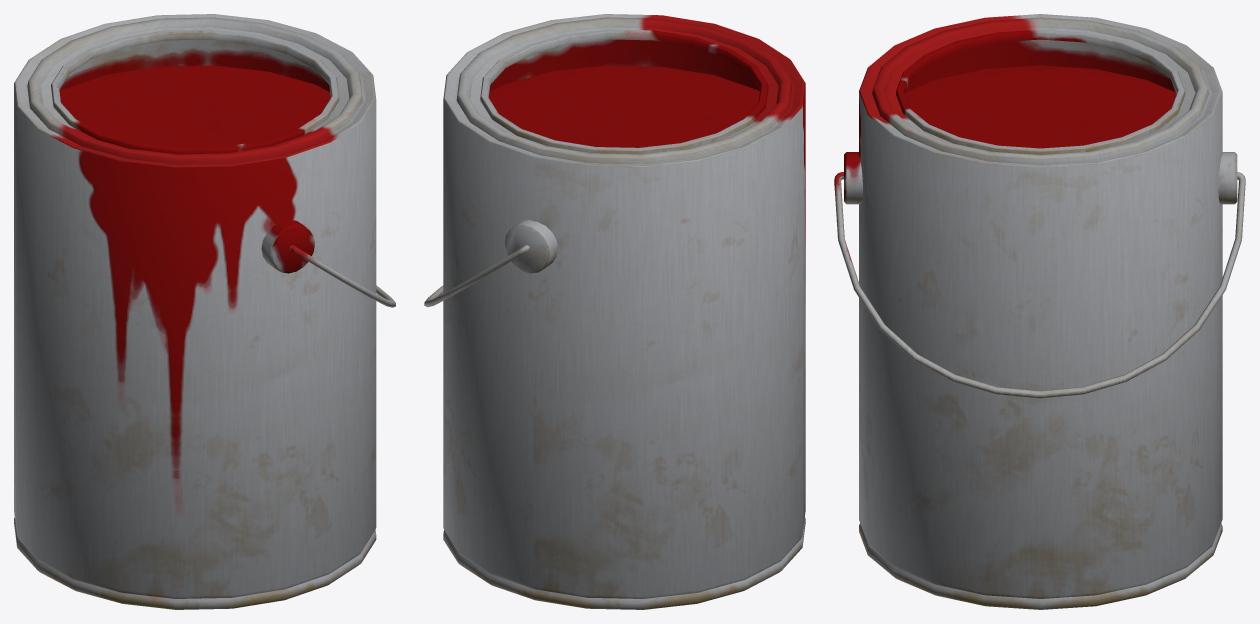
Rendered from Liquid09_1.FBX.
The picture shows the model from 3 angles, left to right: view 1: azimuth 30°, elevation 25°; view 2: azimuth 150°, elevation 25°; view 3: azimuth 270°, elevation 25°; orthographic projection.
Parts seen in each view (by area): view 1: Liquid091_LOD0; view 2: Liquid091_LOD0; view 3: Liquid091_LOD0.
Boxes of the visible parts, <box> form: Liquid091_LOD0: <box>14,14,395,609</box>; Liquid091_LOD0: <box>424,14,805,609</box>; Liquid091_LOD0: <box>834,14,1245,609</box>.
Size of what is drawn, in the model's own units: 23.04 by 30.44 by 25.41.
